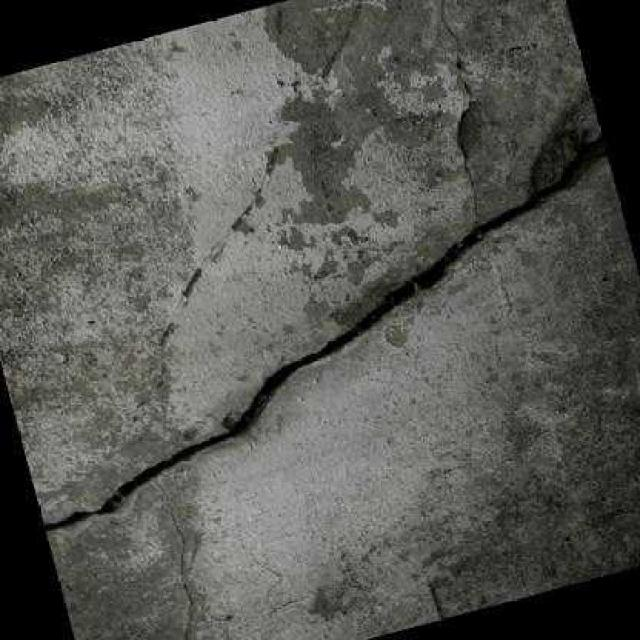D00: (43, 132, 603, 528)
